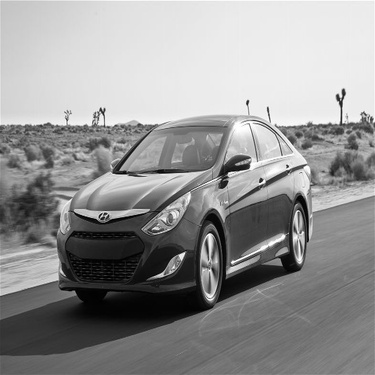car: (47, 115, 319, 305)
